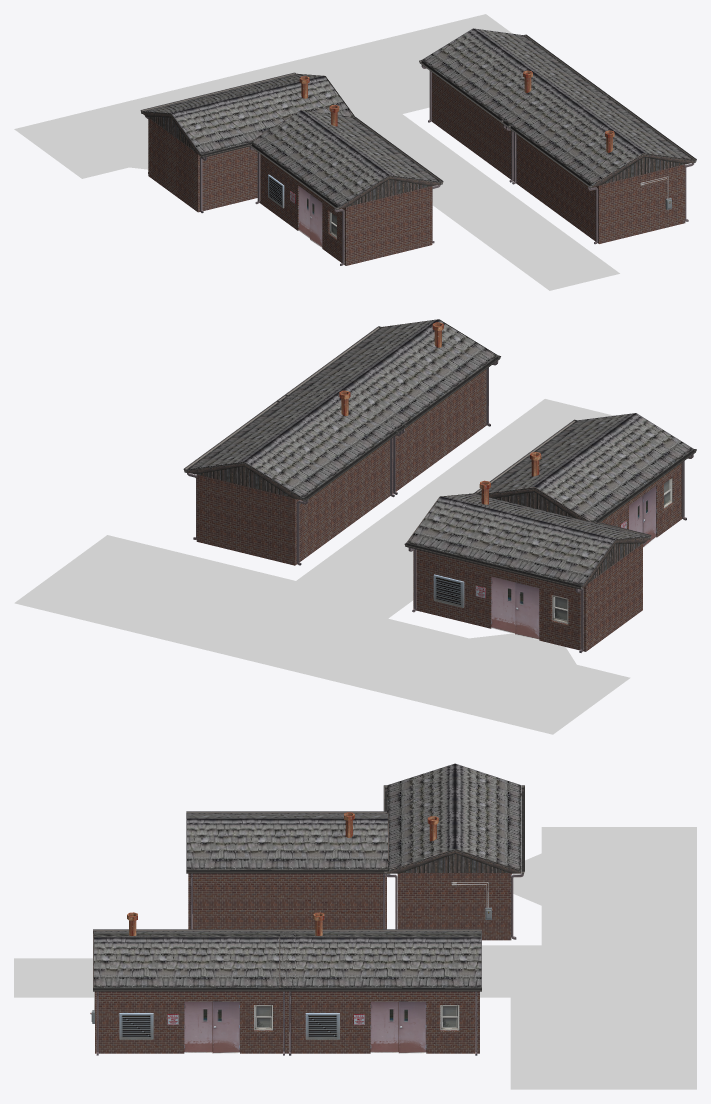
Rendered from town.gltf.
The picture shows the model from 3 angles, top to bottom: view 1: azimuth 30°, elevation 25°; view 2: azimuth 150°, elevation 25°; view 3: azimuth 270°, elevation 25°; orthographic projection. The views are drawn at different scales.
Parts seen in each view (by area): view 1: walkable, building_01_roof.001, building_01_roof.003, building_01.003, building_01_roof.002, building_01_roof, building_01.001, building_01, building_01.002, Door_Shed_A.002, building_01_guttertop.005, building_01_guttertop.003 (+1 smaller); view 2: walkable, building_01_roof.002, building_01_roof.001, building_01_roof, building_01.002, building_01_roof.003, building_01, building_01.003, Door_Shed_A.001, building_01.001, Door_Shed_A.002, building_01_guttertop (+1 smaller); view 3: walkable, building_01_roof, building_01_roof.002, building_01_roof.001, building_01_roof.003, building_01.001, building_01.002, building_01.003, building_01, Door_Shed_A.003, Door_Shed_A.004, building_01_guttertop.004 (+5 smaller).
Boxes of the visible parts, x1,y1,x2,y2 form: walkable: (14,14,619,290); building_01_roof.001: (251,110,440,208); building_01_roof.003: (510,88,693,187); building_01.003: (513,134,685,243); building_01_roof.002: (422,28,611,124); building_01_roof: (142,73,354,156); building_01.001: (259,154,432,265); building_01: (148,117,257,212); building_01.002: (431,72,511,179); Door_Shed_A.002: (298,186,322,247); building_01_guttertop.005: (419,60,510,127); building_01_guttertop.003: (248,142,338,209); walkable: (14,399,630,734); building_01_roof.002: (186,388,403,500); building_01_roof.001: (477,413,693,522); building_01_roof: (406,493,649,587); building_01.002: (196,438,393,565); building_01_roof.003: (280,319,497,429); building_01: (413,543,642,651); building_01.003: (388,369,486,496); Door_Shed_A.001: (491,576,539,639); building_01.001: (493,463,682,537); Door_Shed_A.002: (629,486,656,547); building_01_guttertop: (404,542,582,589); walkable: (14,827,696,1089); building_01_roof: (387,763,521,873); building_01_roof.002: (279,931,481,987); building_01_roof.001: (186,813,388,869); building_01_roof.003: (93,931,295,987); building_01.001: (188,873,386,929); building_01.002: (281,991,479,1053); building_01.003: (95,991,293,1053); building_01: (397,873,511,940); Door_Shed_A.003: (370,1001,426,1053); Door_Shed_A.004: (184,1001,239,1053); building_01_guttertop.004: (279,987,481,991).
Size of what is drawn, in the model's own units: 20 by 3.76 by 22.
Materials: 60 (60 with a texture image).
